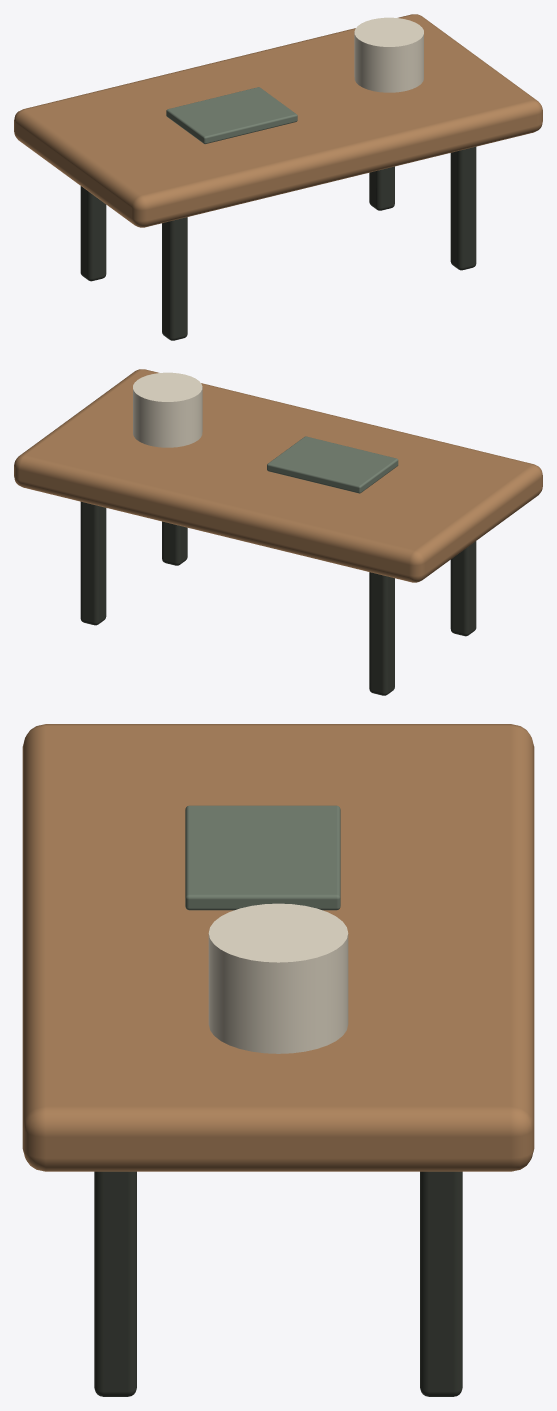
The model's file is table.glb.
The picture shows the model from 3 angles, top to bottom: view 1: azimuth 30°, elevation 25°; view 2: azimuth 150°, elevation 25°; view 3: azimuth 270°, elevation 25°; orthographic projection. The views are drawn at different scales.
Parts seen in each view (by area): view 1: 自制橡木茶几; view 2: 自制橡木茶几; view 3: 自制橡木茶几.
Boxes of the visible parts, x1,y1,x2,y2 form: 自制橡木茶几: (14,14,542,340); 自制橡木茶几: (14,369,542,695); 自制橡木茶几: (22,724,534,1396).
Bounding box in the file's own units: 1.22 × 0.605 × 0.66.
